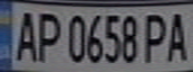0: (63, 10, 87, 64)
5: (103, 10, 124, 64)
6: (84, 10, 106, 64)
8: (118, 11, 142, 64)
A: (9, 7, 39, 62), (163, 8, 193, 63)
P: (139, 10, 172, 64), (33, 8, 63, 62)
